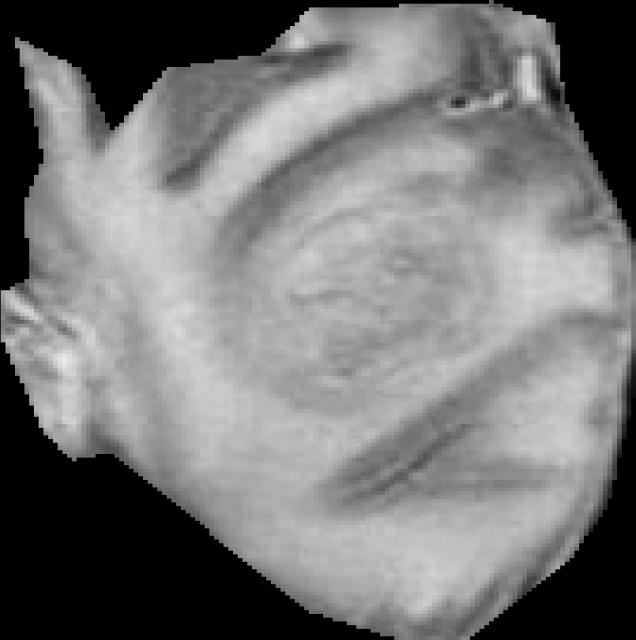tumor_moderate_chance: (1, 0, 636, 640)
